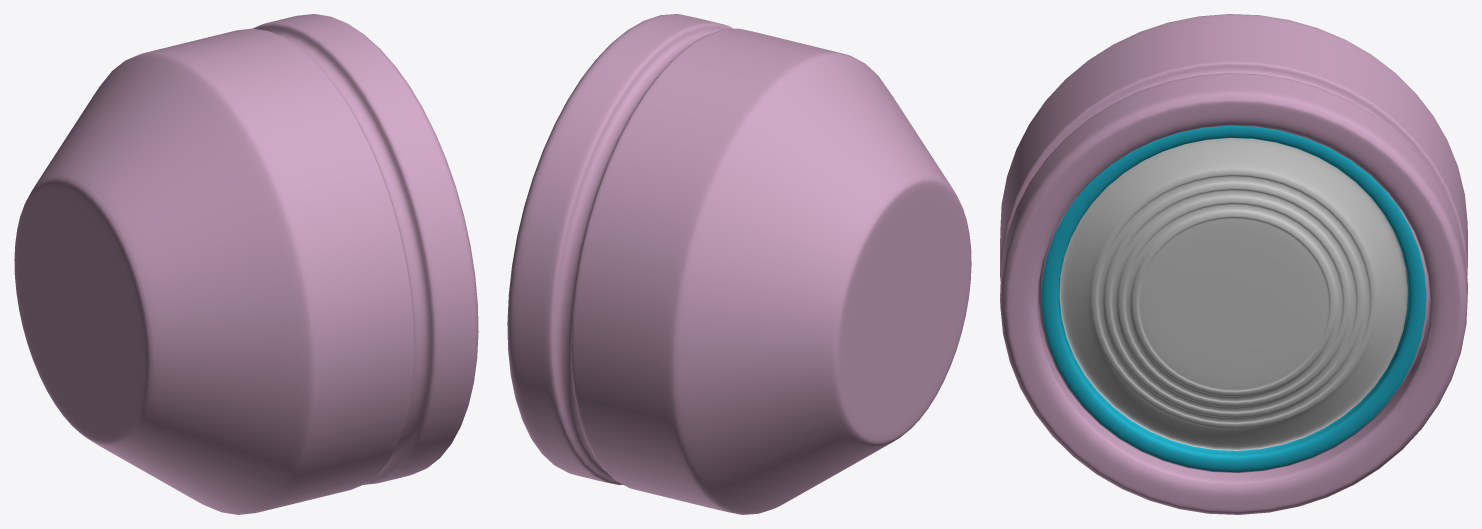
The picture shows the model from 3 angles, left to right: view 1: azimuth 30°, elevation 25°; view 2: azimuth 150°, elevation 25°; view 3: azimuth 270°, elevation 25°; orthographic projection.
Parts seen in each view (by area): view 1: Cylinder.403; view 2: Cylinder.403; view 3: Cylinder.403.
Boxes of the visible parts, box(x1,y1,x2,y2) form: Cylinder.403: box(14, 14, 478, 514); Cylinder.403: box(507, 14, 971, 514); Cylinder.403: box(1000, 14, 1467, 514).
Bounding box in the file's own units: 0.617 × 0.8937 × 0.8937.
